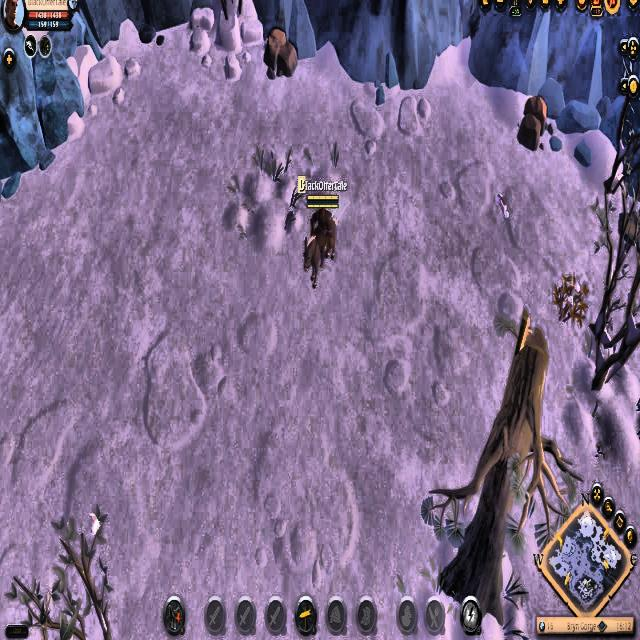limestone: (262, 25, 298, 81), (517, 92, 549, 154)
